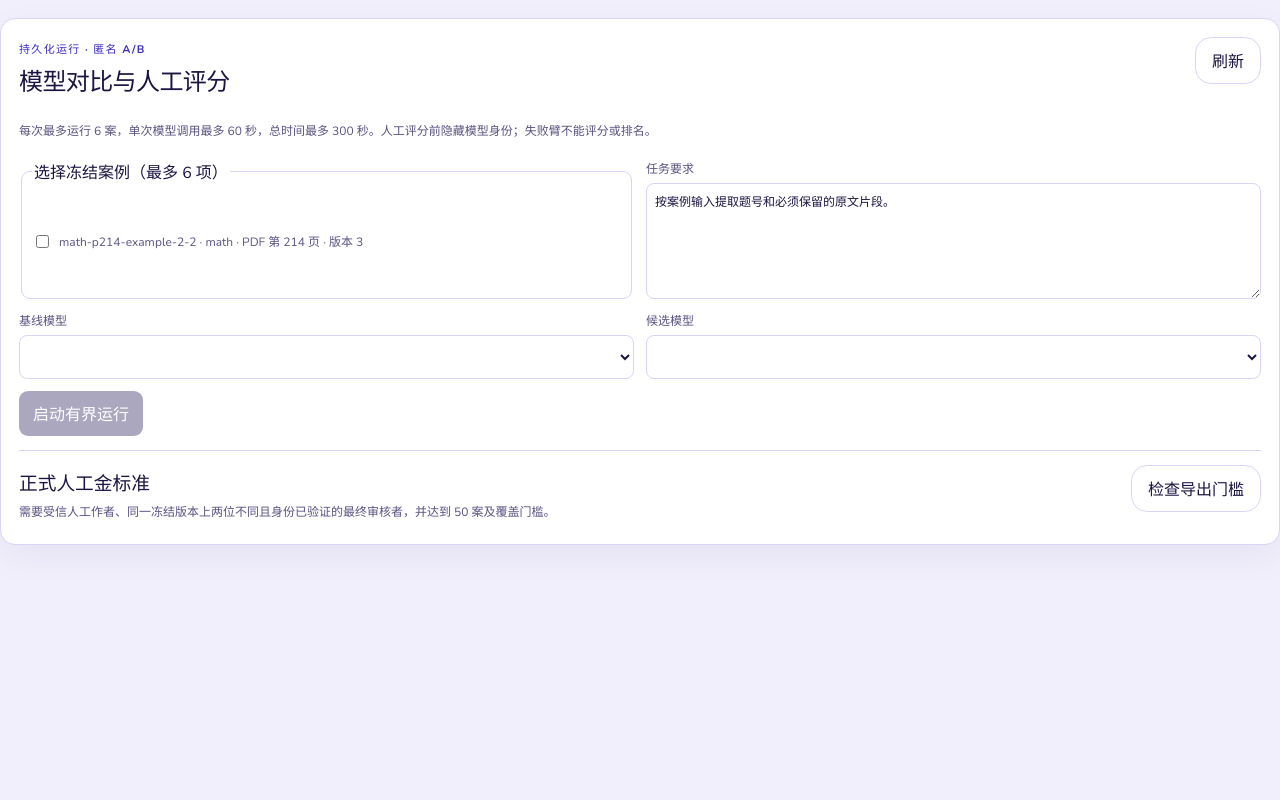
Test case: user Given a status poll is pending When saving a human rating Then its late blind response cannot hide the reveal
This screenshot has width=1280, height=800.
Check: the text "math-p214-example-2-2 · math · PDF 第 214 页 · 版本 3" is shown, box [59, 232, 363, 250]
Click the checkbox labelled "math-p214-example-2-2 · math · PDF 第 214 页 · 版本 3" at [42, 241], box [36, 235, 49, 248]
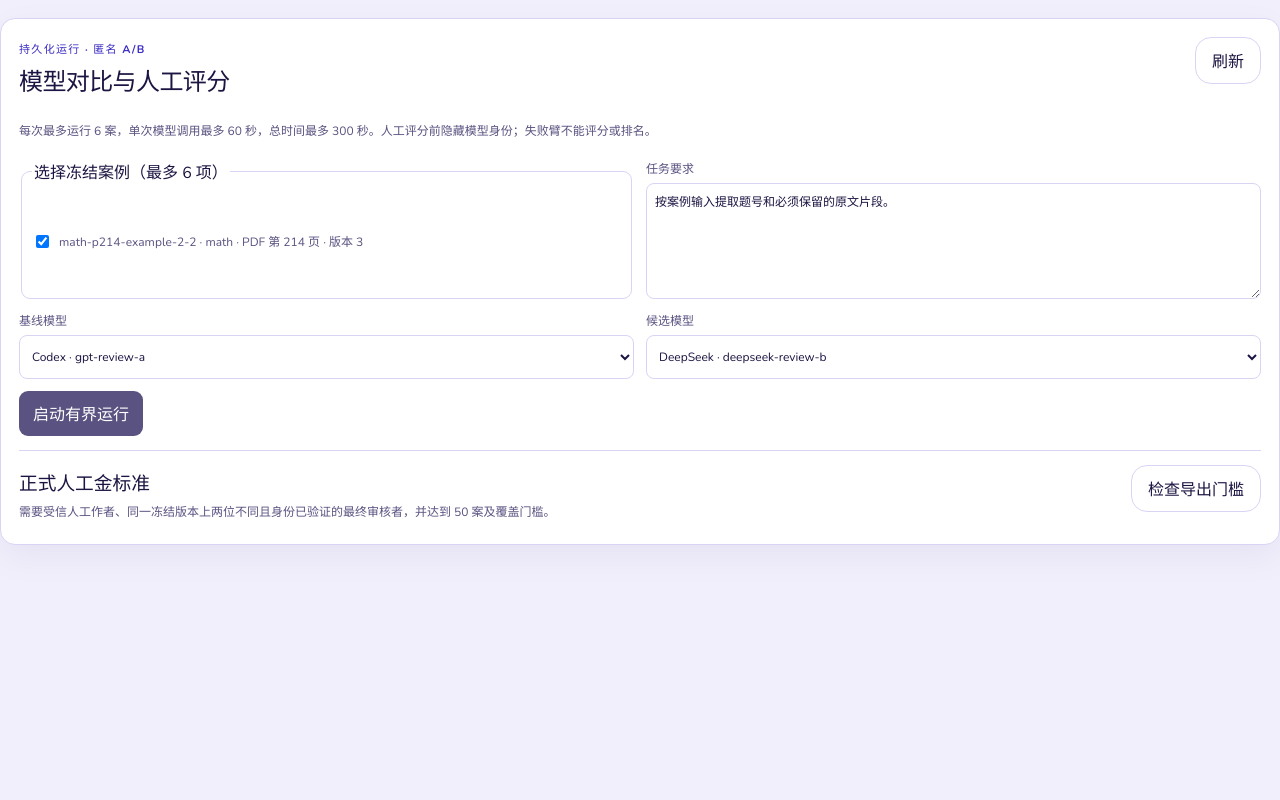
Check: the button "启动有界运行" is enabled
Click the button "启动有界运行" at [81, 414], box [19, 391, 143, 436]
(page scrolled)
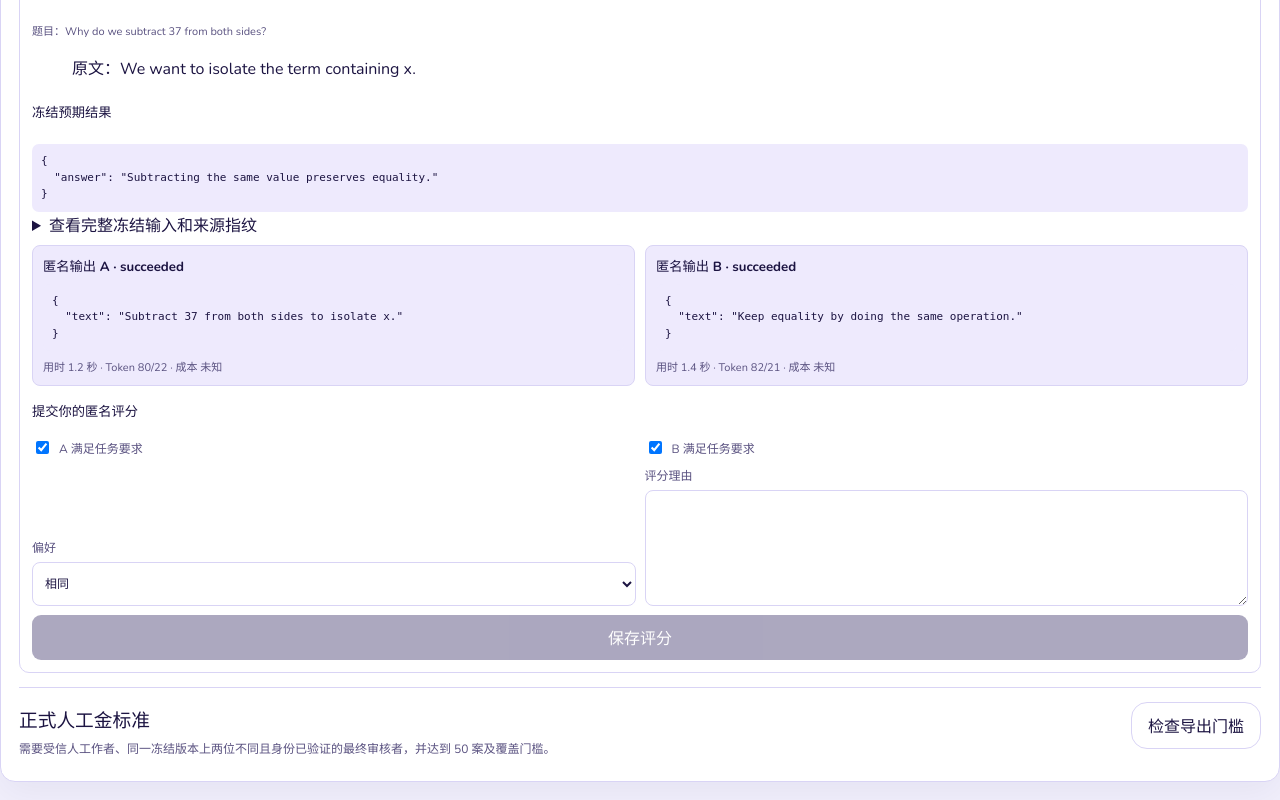
Type "Both explain the equality step." into the text box labelled "评分理由" at [946, 548], box [644, 490, 1248, 606]
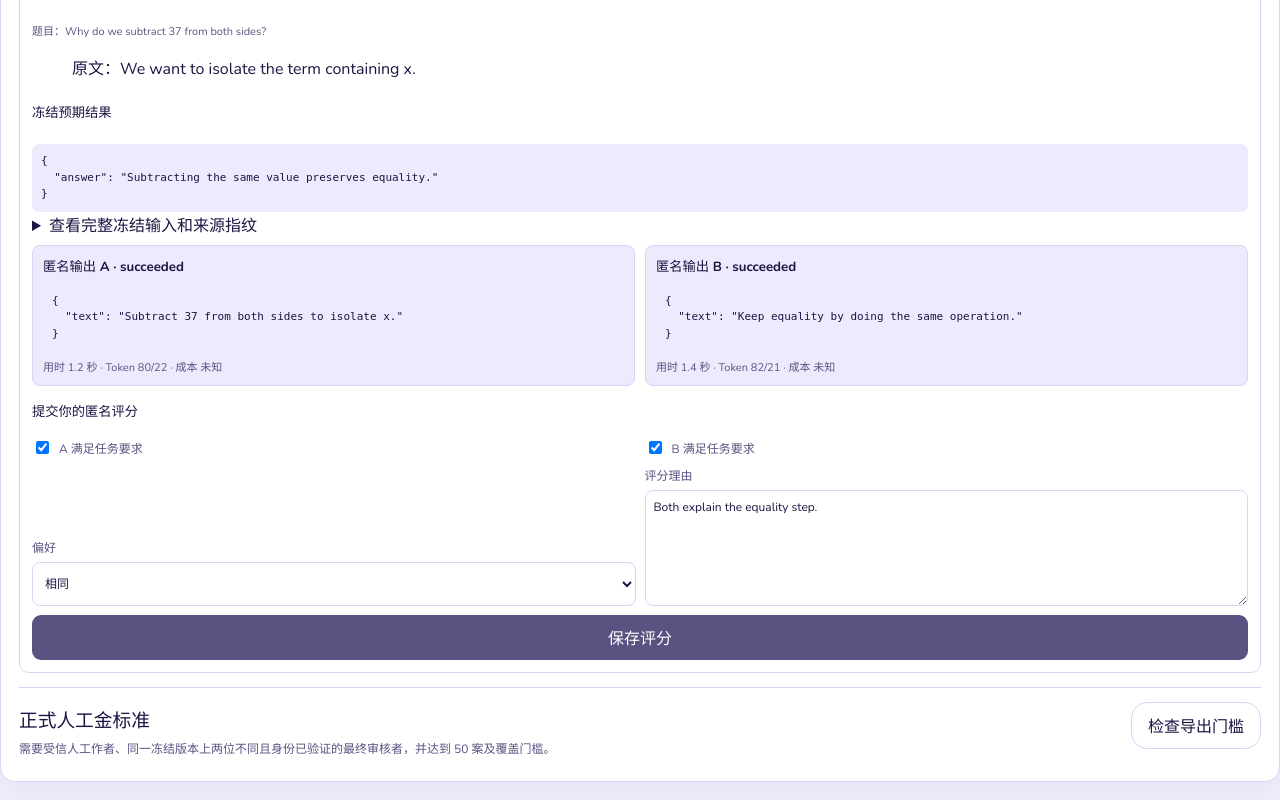
Click the button "保存评分" at [640, 638], box [32, 615, 1248, 660]
(page scrolled)
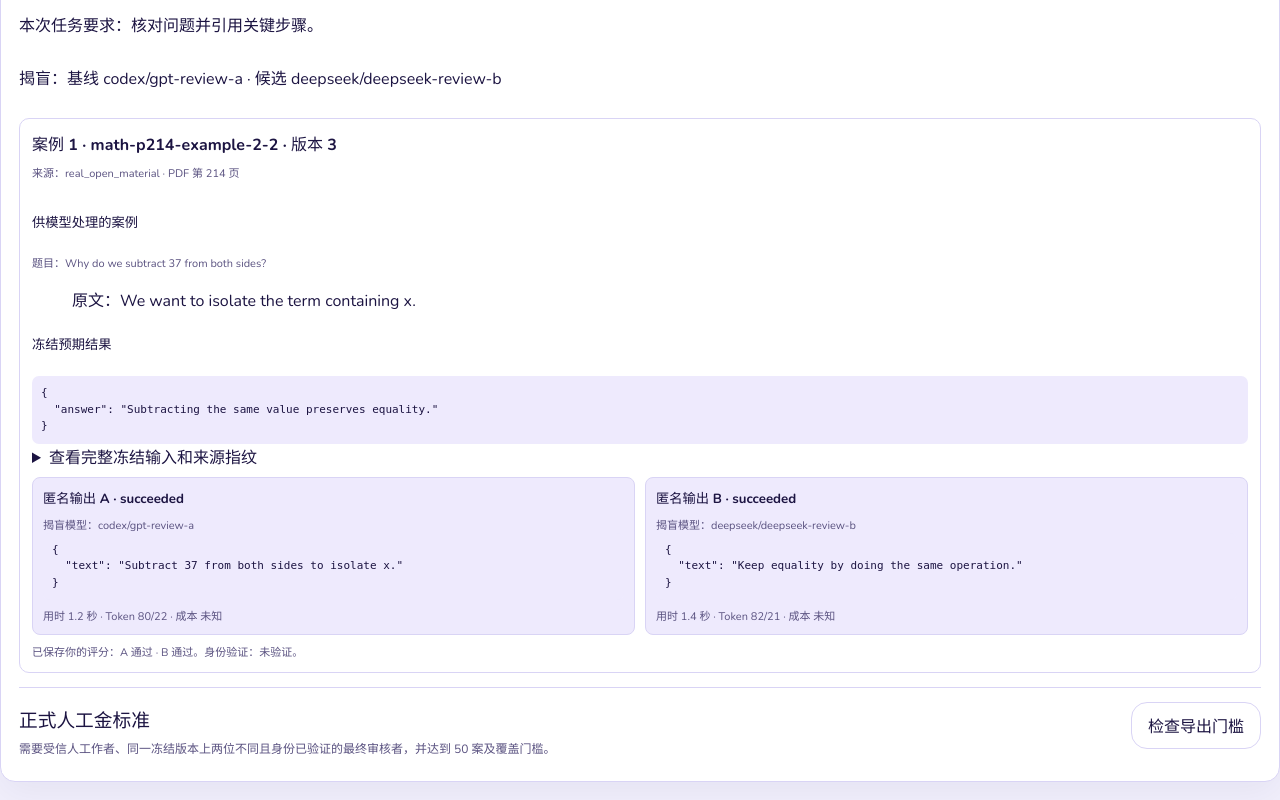
Check: the text "揭盲：基线 codex/gpt-review-a · 候选 deepseek/deepseek-review-b" is shown, box [19, 68, 502, 90]
Check: the text "已保存你的评分：A 通过 · B 通过。身份验证：未验证。" is shown, box [32, 645, 303, 660]
